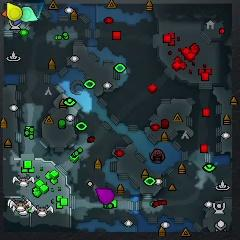p1: (13, 19, 21, 26)
p2: (20, 6, 38, 22)
p3: (97, 188, 114, 203)
p4: (7, 3, 22, 21)
p5: (2, 10, 7, 17)
